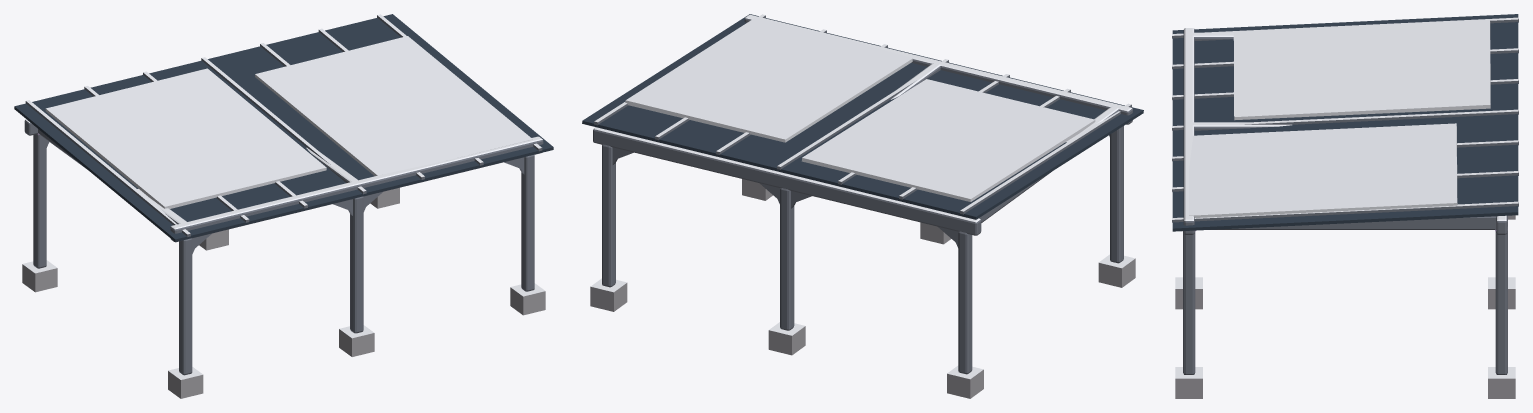
The model's file is PR_Pergola.fbx.
3 views of the same model, side by side, from view 1: azimuth 30°, elevation 25°; view 2: azimuth 150°, elevation 25°; view 3: azimuth 270°, elevation 25° (orthographic). The views are drawn at different scales.
Visible parts, largest first — view 1: PR_Pergola; view 2: PR_Pergola; view 3: PR_Pergola.
Boxes of the visible parts, x1=… form: PR_Pergola: x1=14, y1=14, x2=553, y2=398; PR_Pergola: x1=582, y1=14, x2=1143, y2=398; PR_Pergola: x1=1172, y1=14, x2=1518, y2=398.
Bounding box in the file's own units: 8.4 × 3.83 × 6.21.
